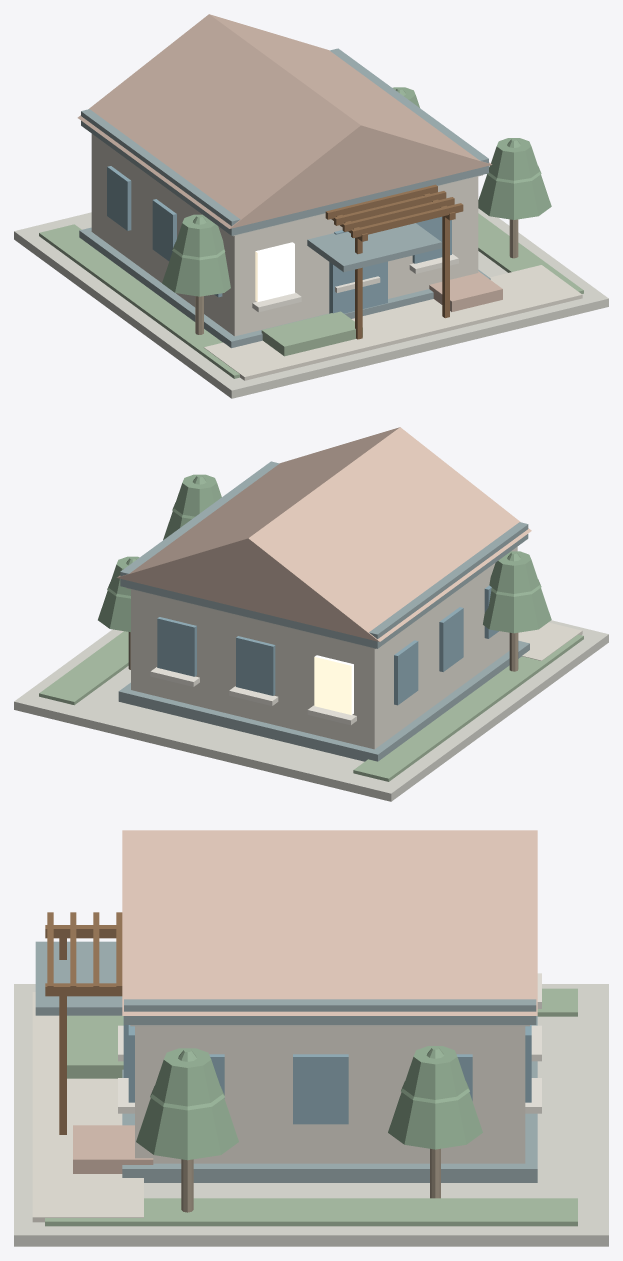
The model's file is remaster_house_22.glb.
3 views of the same model, one above another, from view 1: azimuth 30°, elevation 25°; view 2: azimuth 150°, elevation 25°; view 3: azimuth 270°, elevation 25° (orthographic). The views are drawn at different scales.
Visible parts, largest first — view 1: remaster_house_22 brick, remaster_house_22 cream, remaster_house_22 roof, remaster_house_22 stone, remaster_house_22 green, remaster_house_22 leaf, remaster_house_22 glass, remaster_house_22 warm, remaster_house_22 white, Pergola slat.021, Pergola slat.022, Pergola slat.023 (+4 smaller); view 2: remaster_house_22 brick, remaster_house_22 cream, remaster_house_22 stone, remaster_house_22 roof, remaster_house_22 green, remaster_house_22 leaf, remaster_house_22 glass, remaster_house_22 warm, remaster_house_22 white; view 3: remaster_house_22 brick, remaster_house_22 cream, remaster_house_22 stone, remaster_house_22 roof, remaster_house_22 green, remaster_house_22 leaf, remaster_house_22 glass, remaster_house_22 white, remaster_house_22 bark, Pergola post.007, Pergola runner.007, Pergola runner.006 (+4 smaller).
Boxes of the visible parts, <box> form: remaster_house_22 brick: <box>77,14,502,311</box>; remaster_house_22 cream: <box>91,134,582,380</box>; remaster_house_22 roof: <box>79,48,490,348</box>; remaster_house_22 stone: <box>14,175,608,398</box>; remaster_house_22 green: <box>39,213,583,378</box>; remaster_house_22 leaf: <box>162,87,551,296</box>; remaster_house_22 glass: <box>107,166,451,313</box>; remaster_house_22 warm: <box>255,242,294,302</box>; remaster_house_22 white: <box>252,254,458,312</box>; Pergola slat.021: <box>351,203,463,238</box>; Pergola slat.022: <box>342,197,454,231</box>; Pergola slat.023: <box>334,191,446,225</box>; remaster_house_22 brick: <box>117,427,531,641</box>; remaster_house_22 cream: <box>131,546,582,749</box>; remaster_house_22 stone: <box>14,587,608,801</box>; remaster_house_22 roof: <box>118,461,529,761</box>; remaster_house_22 green: <box>39,631,583,781</box>; remaster_house_22 leaf: <box>98,474,551,633</box>; remaster_house_22 glass: <box>157,585,498,705</box>; remaster_house_22 warm: <box>314,655,353,715</box>; remaster_house_22 white: <box>150,667,356,725</box>; remaster_house_22 brick: <box>73,830,537,1173</box>; remaster_house_22 cream: <box>32,992,525,1222</box>; remaster_house_22 stone: <box>14,984,608,1246</box>; remaster_house_22 roof: <box>35,941,537,1182</box>; remaster_house_22 green: <box>45,988,577,1226</box>; remaster_house_22 leaf: <box>136,1046,482,1160</box>; remaster_house_22 glass: <box>123,1016,531,1124</box>; remaster_house_22 white: <box>118,973,541,1113</box>; remaster_house_22 bark: <box>181,1148,440,1212</box>; Pergola post.007: <box>59,996,66,1134</box>; Pergola runner.007: <box>45,983,122,996</box>; Pergola runner.006: <box>45,925,116,938</box>.
Bounding box in the file's own units: 9.64 × 4.94 × 9.6.
